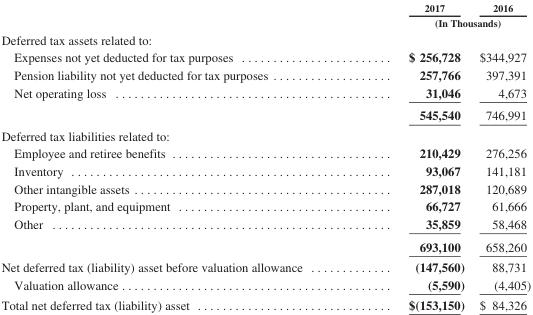table: (0, 1, 530, 311)
table column: (0, 1, 354, 311), (354, 1, 471, 311), (471, 1, 530, 311)
table column header: (0, 1, 530, 30)
table projected row header: (0, 30, 530, 48), (0, 125, 530, 143)
table row: (0, 103, 530, 125), (0, 234, 530, 256), (0, 83, 530, 103), (0, 214, 530, 234), (0, 256, 530, 275), (0, 275, 530, 294), (0, 30, 530, 48), (0, 65, 530, 83), (0, 125, 530, 143), (0, 143, 530, 161), (0, 161, 530, 179), (0, 179, 530, 197), (0, 48, 530, 65), (0, 197, 530, 214), (0, 294, 530, 311), (0, 14, 530, 30), (0, 1, 530, 14)
table spanning cell: (354, 14, 530, 30)
